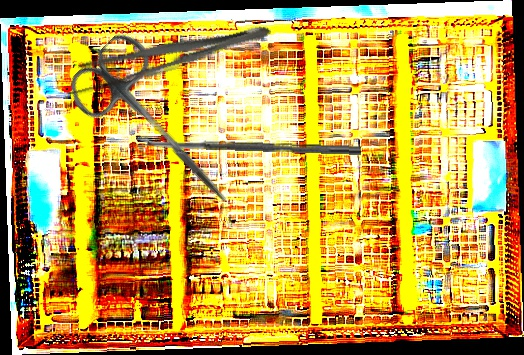Dressing Forceps: (61, 12, 275, 101)
Iris Scissors: (59, 26, 261, 231)
Surgical Spoon: (136, 137, 362, 155)
